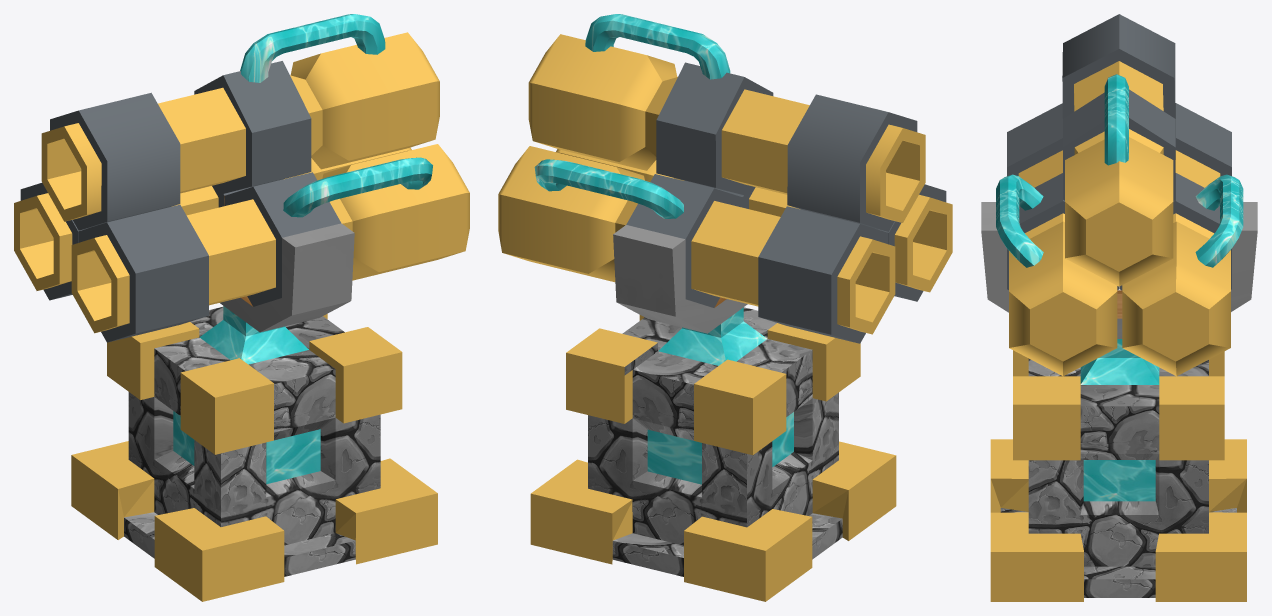
File: sung 3.fbx
The picture shows the model from 3 angles, left to right: view 1: azimuth 30°, elevation 25°; view 2: azimuth 150°, elevation 25°; view 3: azimuth 270°, elevation 25°; orthographic projection. The views are drawn at different scales.
Parts seen in each view (by area): view 1: sung_3, than_sung_3; view 2: sung_3, than_sung_3; view 3: sung_3, than_sung_3.
Boxes of the visible parts, bbox=[...] form: sung_3: bbox=[14, 14, 469, 342]; than_sung_3: bbox=[71, 306, 437, 601]; sung_3: bbox=[498, 14, 952, 343]; than_sung_3: bbox=[530, 307, 896, 601]; sung_3: bbox=[981, 14, 1257, 376]; than_sung_3: bbox=[990, 339, 1246, 601].
Bounding box in the file's own units: 7.9 × 10.23 × 5.37.
1 material, 1 textured.
